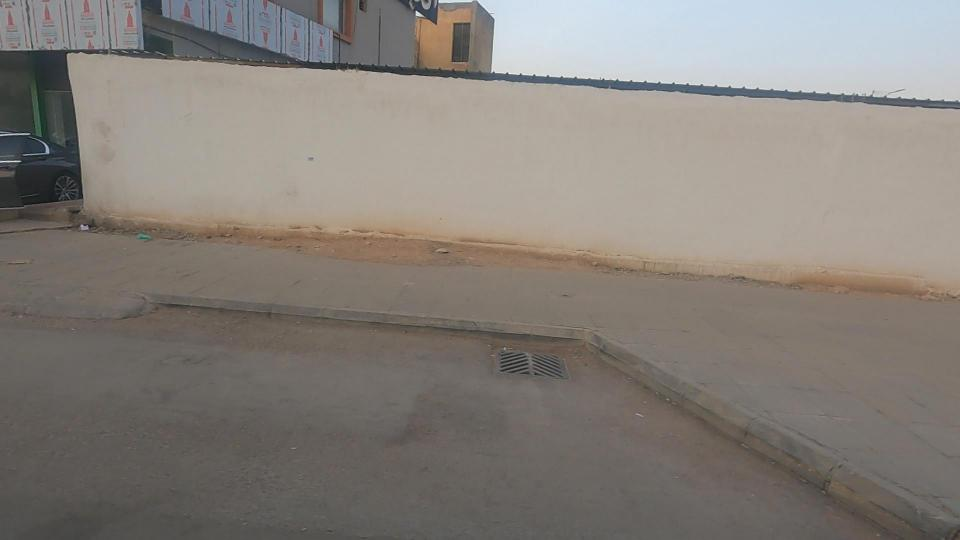GARBAGE: (100, 213, 190, 259), (58, 201, 108, 251)
